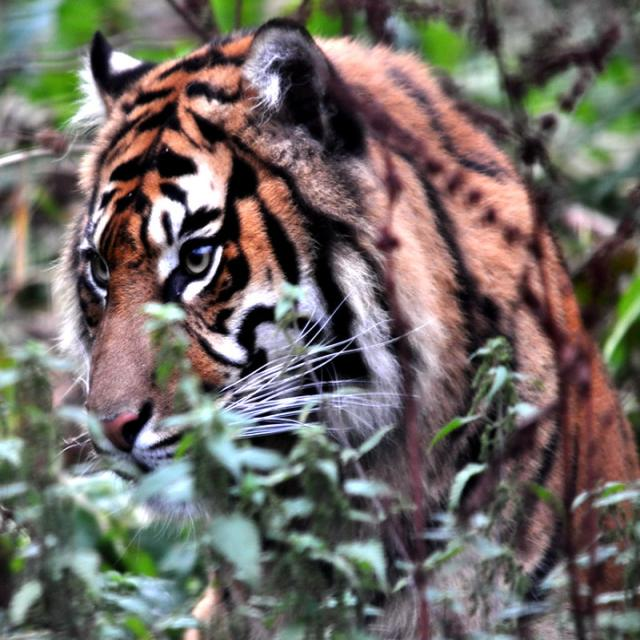Tiger: (51, 13, 638, 631)
